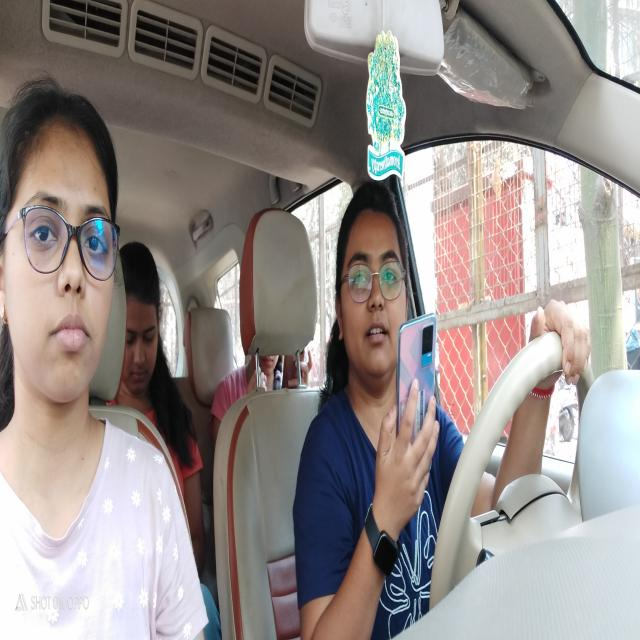mobile: (394, 309, 440, 462)
person: (0, 76, 122, 418), (335, 182, 410, 380), (119, 237, 163, 398), (260, 355, 284, 390)
